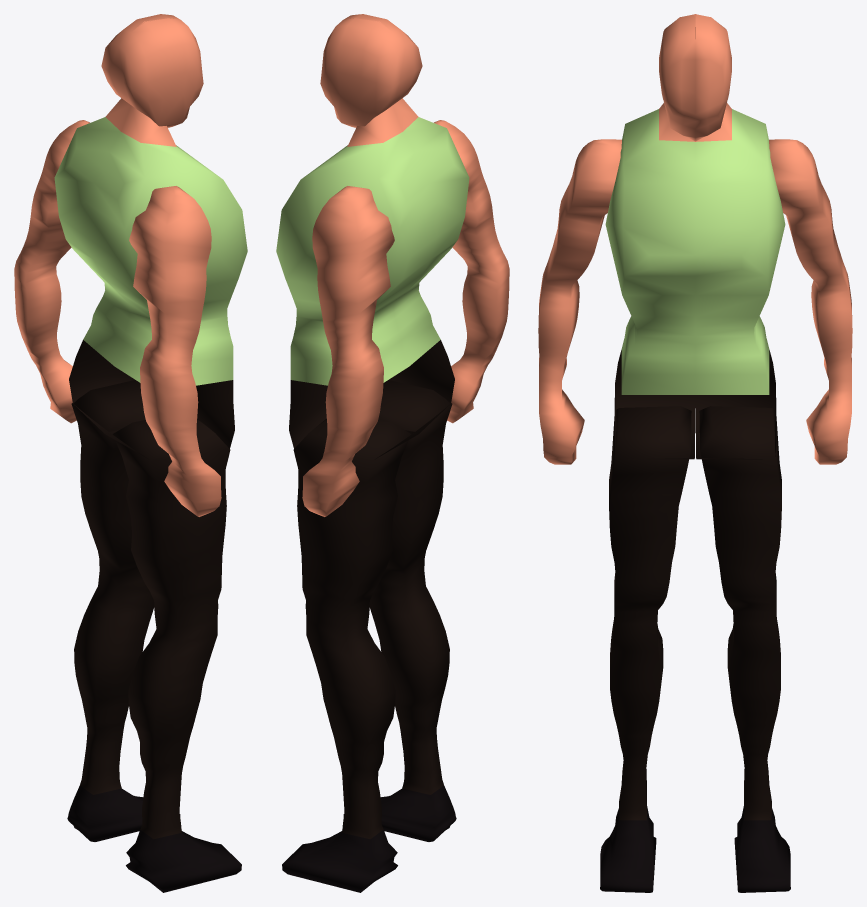
File: WIPPlayerModel.obj
3 renders of one model, left to right at view 1: azimuth 30°, elevation 25°; view 2: azimuth 150°, elevation 25°; view 3: azimuth 270°, elevation 25°, orthographic. The views are drawn at different scales.
Visible parts, largest first — view 1: Cube; view 2: Cube; view 3: Cube.
Boxes of the visible parts, x1,y1,x2,y2 form: Cube: (14, 14, 247, 892); Cube: (276, 14, 509, 892); Cube: (538, 14, 852, 892).
Size of the model in its own units: 1.44 by 8.56 by 2.84.
